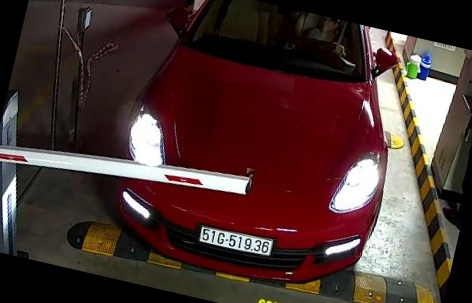plate: (190, 218, 275, 258)
